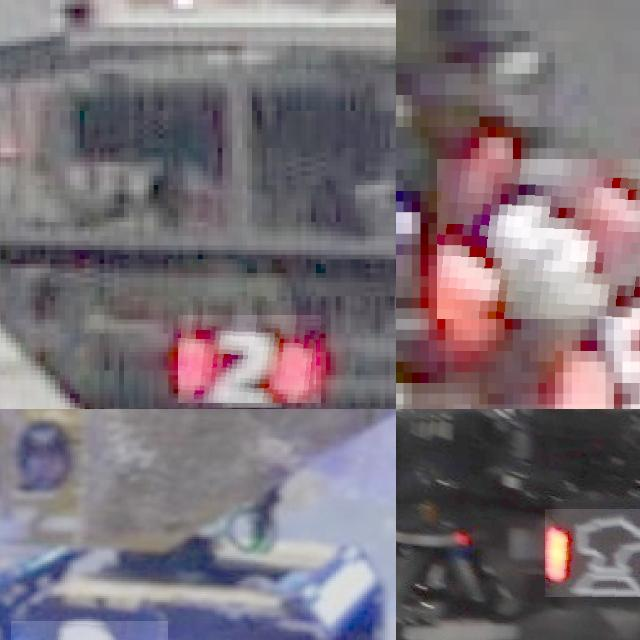R2: (178, 315, 321, 403)
R5: (437, 159, 640, 319), (563, 308, 640, 409)
Rs: (545, 508, 640, 597)
